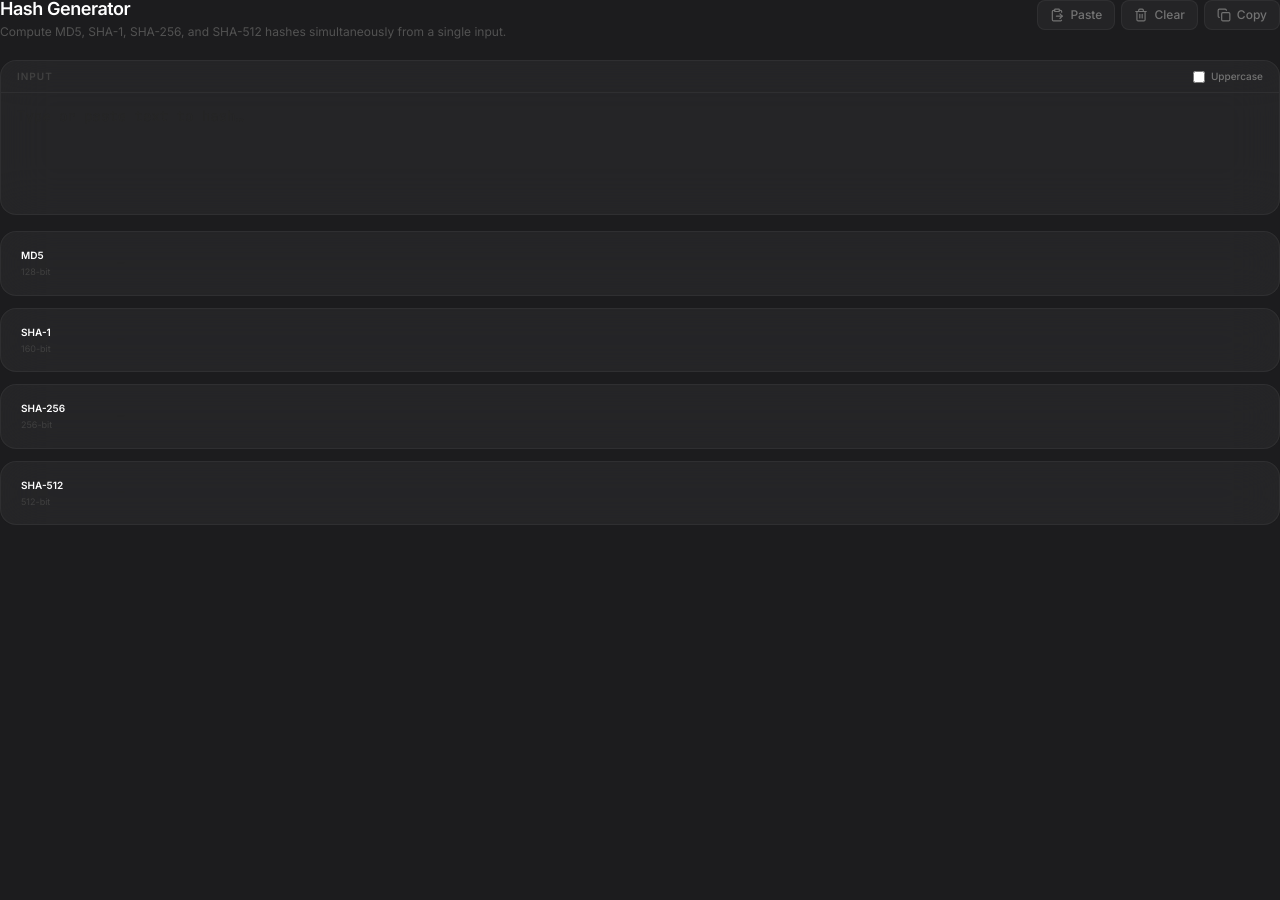
Test: HashGenerator › pastes clipboard text on Paste click
This screenshot has width=1280, height=900.
Click the button titled "Paste from clipboard": (1076, 15) [1037,0,1115,30]
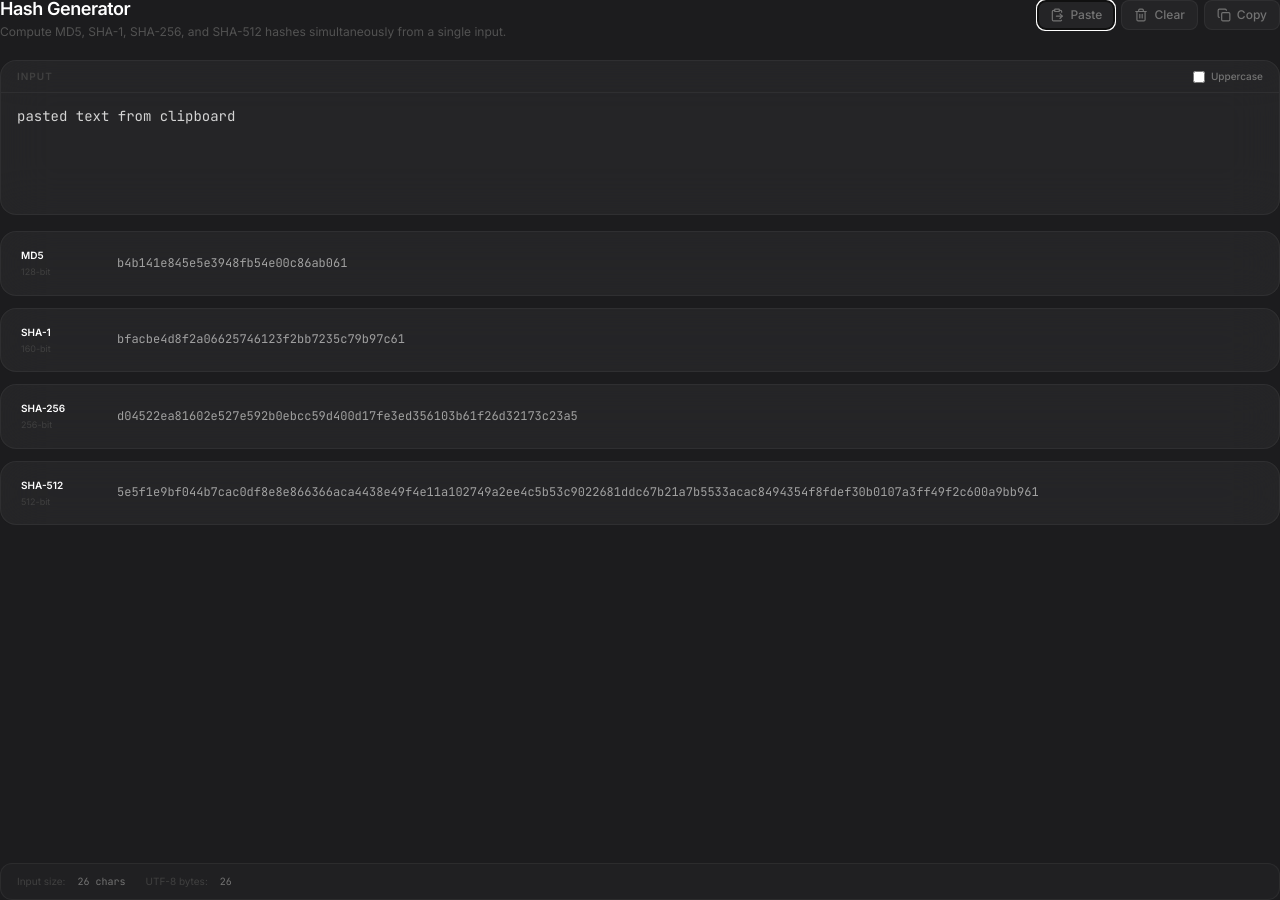
expect the text box with placeholder "Type or paste text to hash…" holds "pasted text from clipboard": met, box [1,93,1279,208]
